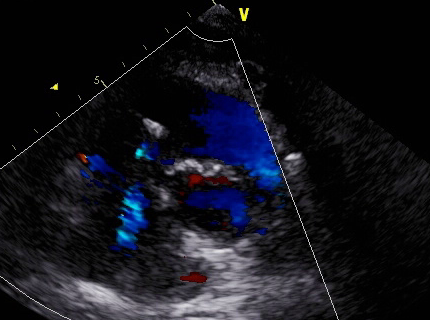TR: (71, 143, 176, 230)
